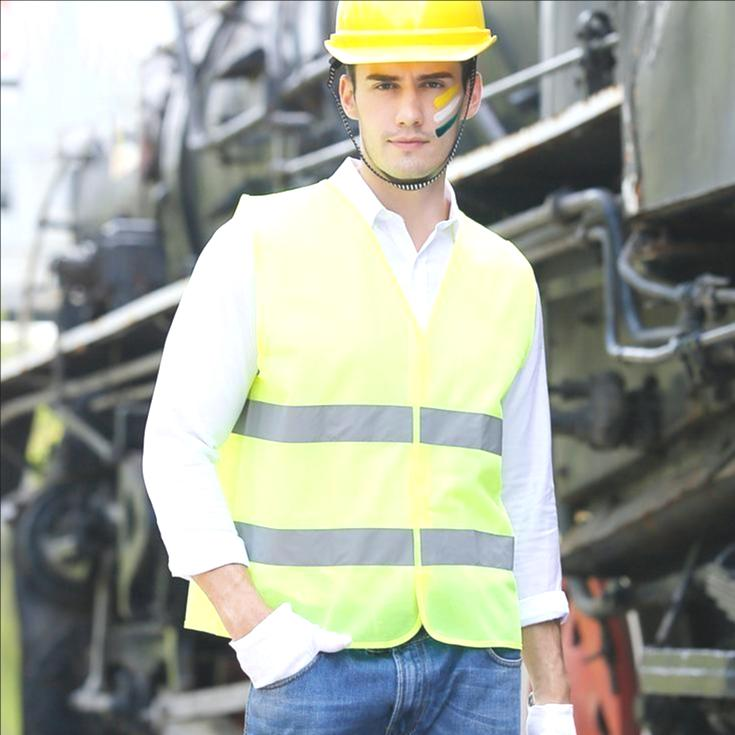helmet: (323, 0, 496, 75)
person: (136, 0, 580, 735)
